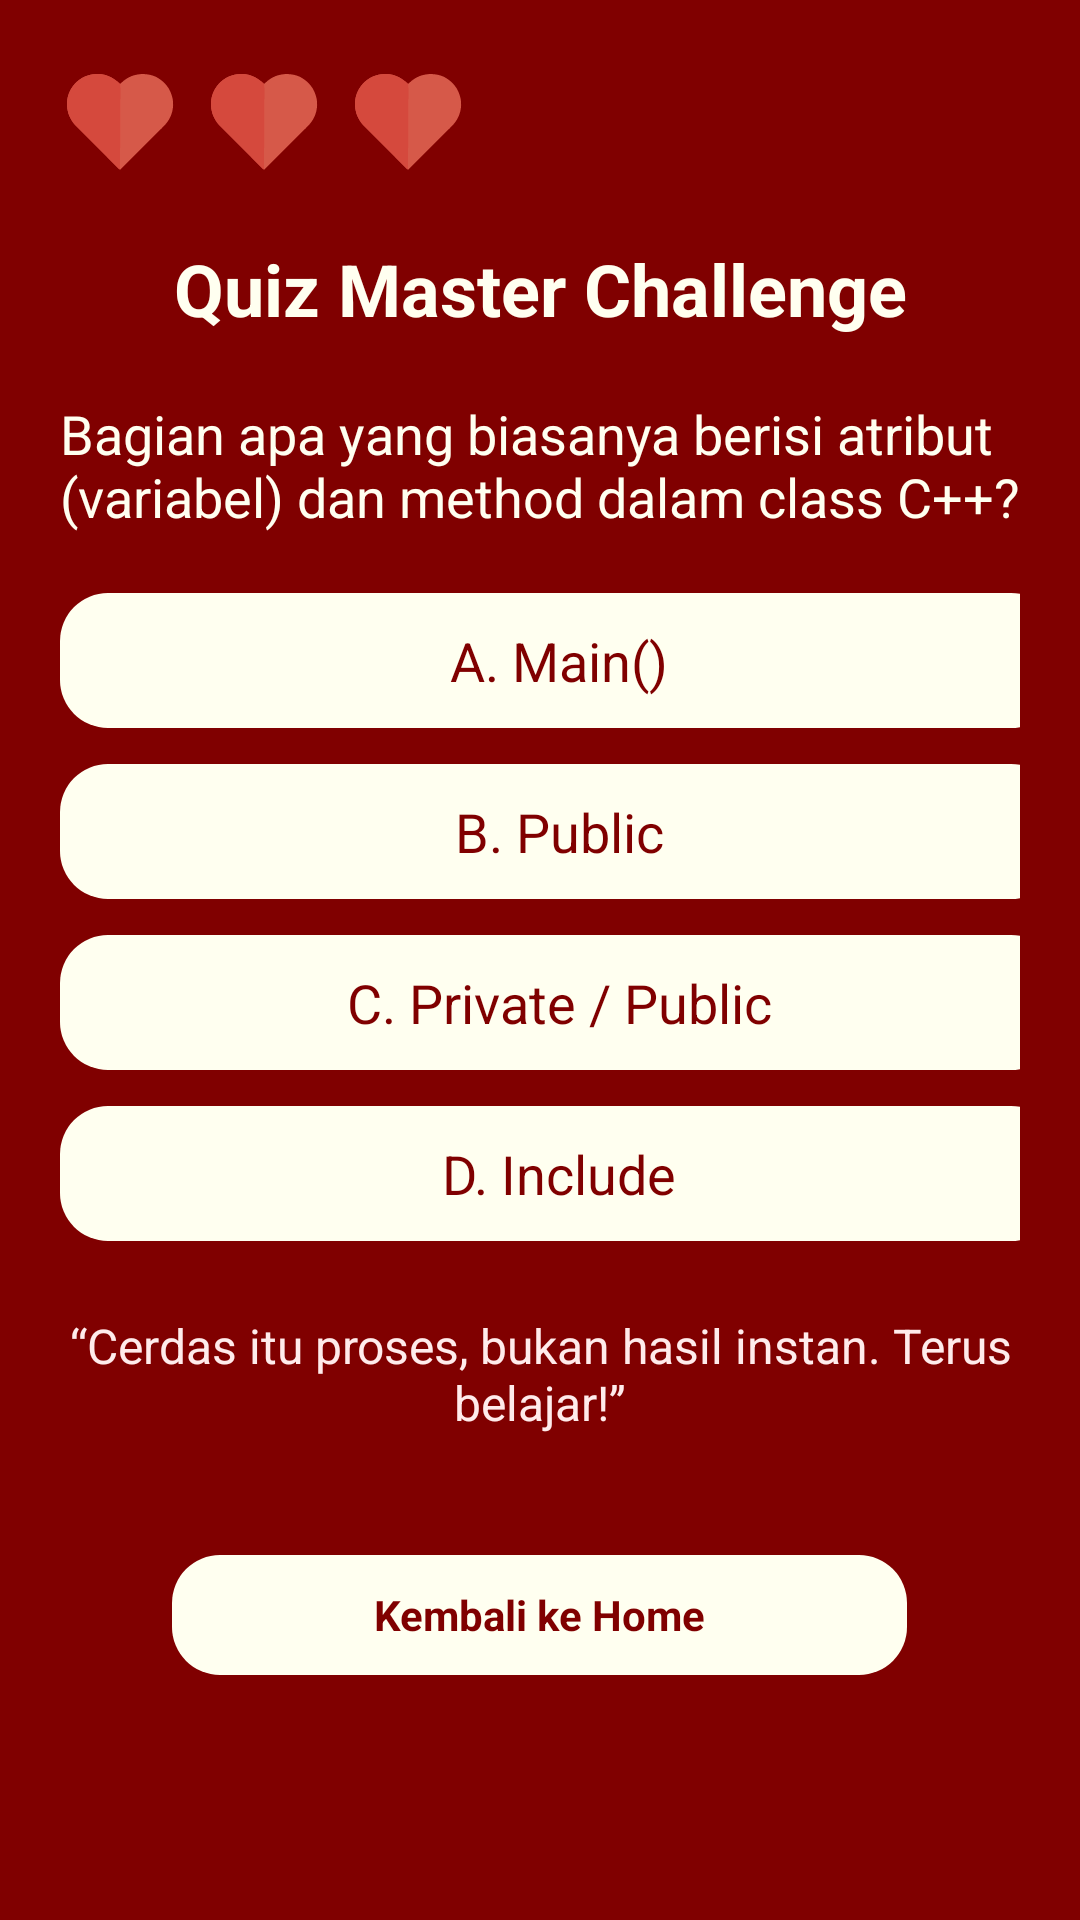

Icons on this 1080x1920 Android screen, each with its box as bbox=[x1, y1, x2, y2]:
heart: bbox=[67, 74, 173, 170], bbox=[211, 74, 317, 170], bbox=[355, 74, 461, 170]
